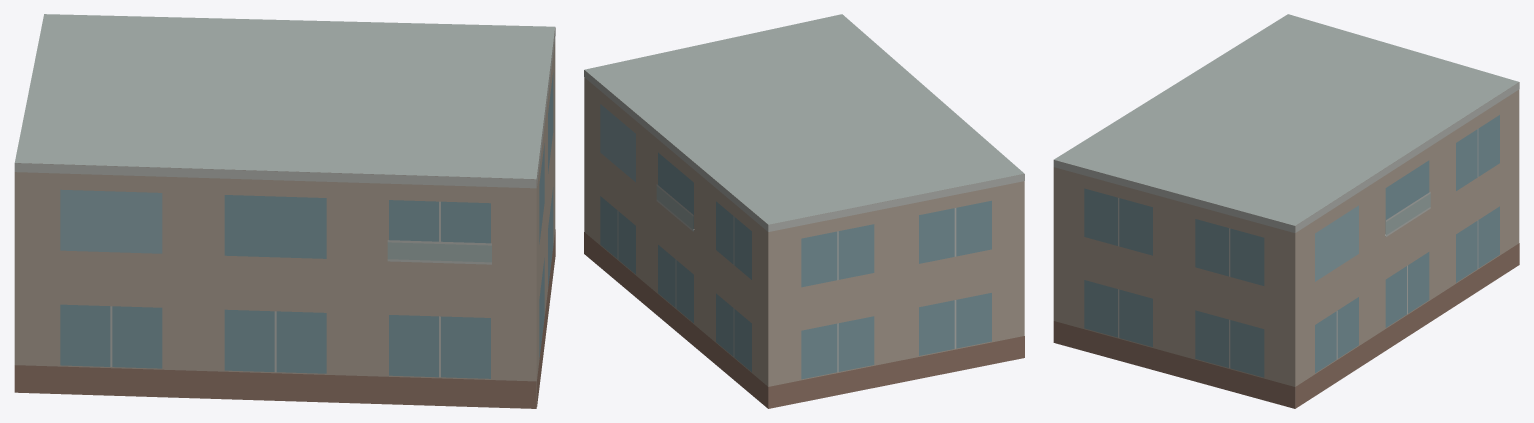
Rendered from survey-upis-32984781.glb.
3 renders of one model, left to right at view 1: azimuth 30°, elevation 25°; view 2: azimuth 150°, elevation 25°; view 3: azimuth 270°, elevation 25°, orthographic. The views are drawn at different scales.
Parts seen in each view (by area): view 1: survey-upis-32984781.tmp; view 2: survey-upis-32984781.tmp; view 3: survey-upis-32984781.tmp.
Boxes of the visible parts, box(x1,y1,x2,y2) form: survey-upis-32984781.tmp: box(14, 14, 555, 408); survey-upis-32984781.tmp: box(584, 14, 1024, 408); survey-upis-32984781.tmp: box(1053, 14, 1519, 408).
Size of the model in its own units: 15.16 by 6.1 by 14.08.
